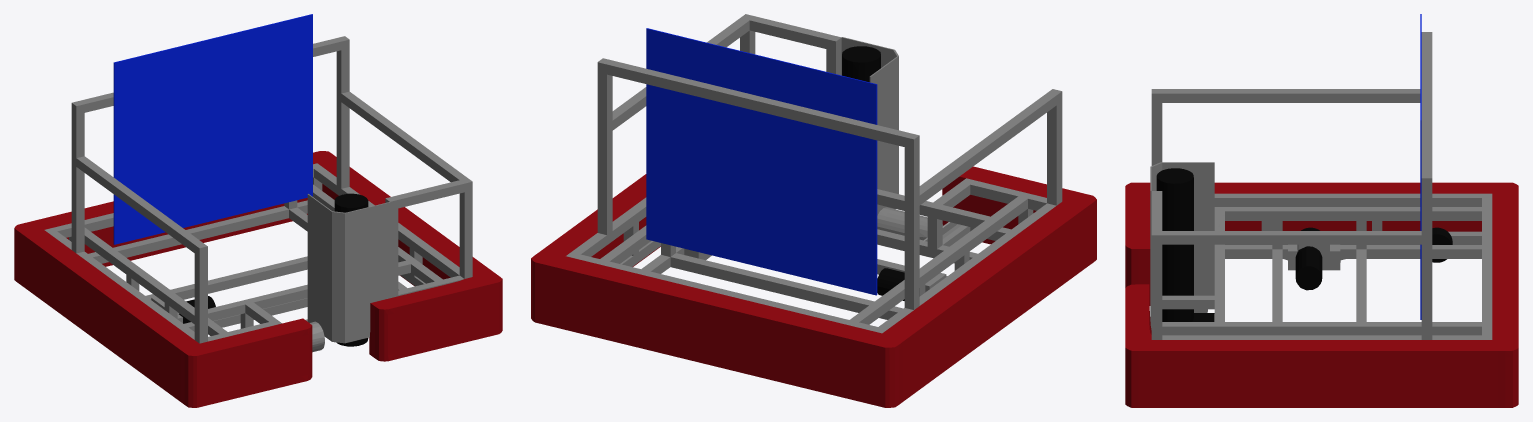
File: hungry_toaster_meters.dae
3 renders of one model, left to right at view 1: azimuth 30°, elevation 25°; view 2: azimuth 150°, elevation 25°; view 3: azimuth 270°, elevation 25°, orthographic. The views are drawn at different scales.
Parts seen in each view (by area): view 1: Electronics Pannel, Bumpers, Hungry Toaster Body, Sheild; view 2: Bumpers, Electronics Pannel, Hungry Toaster Body, Sheild; view 3: Hungry Toaster Body, Bumpers, Sheild, Electronics Pannel, Wheels.001.
Boxes of the visible parts, x1,y1,x2,y2 form: Electronics Pannel: [113, 14, 312, 244]; Bumpers: [14, 151, 502, 407]; Hungry Toaster Body: [44, 36, 472, 352]; Sheild: [208, 194, 390, 343]; Bumpers: [531, 166, 1096, 407]; Electronics Pannel: [646, 28, 877, 295]; Hungry Toaster Body: [566, 14, 1062, 333]; Sheild: [841, 37, 989, 220]; Hungry Toaster Body: [1151, 32, 1492, 339]; Bumpers: [1125, 182, 1518, 407]; Sheild: [1150, 162, 1224, 329]; Electronics Pannel: [1420, 14, 1421, 319]; Wheels.001: [1432, 227, 1452, 262].
Bounding box in the file's own units: 0.9657 × 0.953 × 0.6863.
